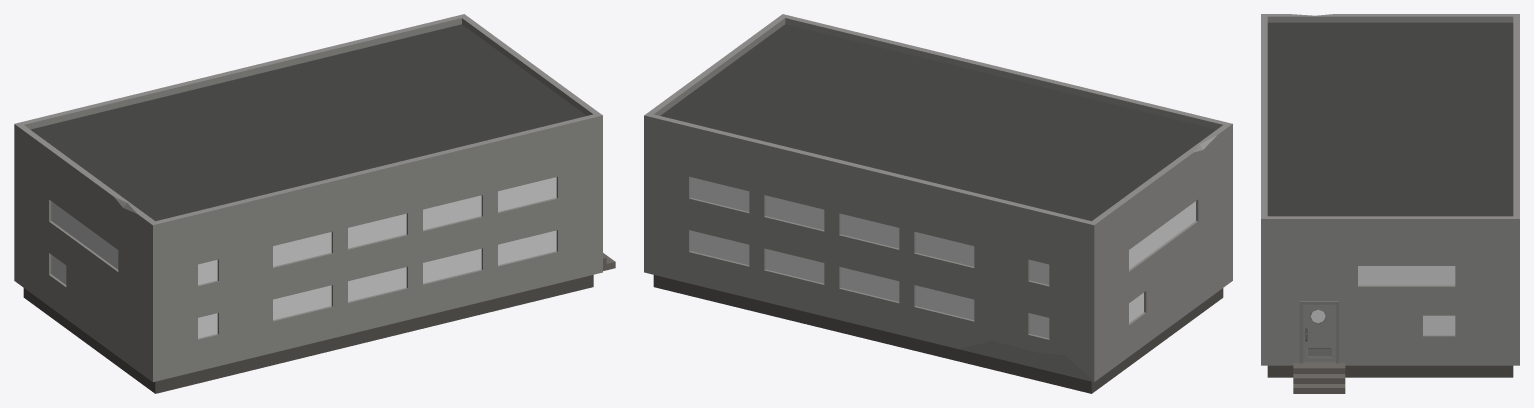
File: SM_Bldg_City_Industrial_08.fbx
3 views of the same model, side by side, from view 1: azimuth 30°, elevation 25°; view 2: azimuth 150°, elevation 25°; view 3: azimuth 270°, elevation 25° (orthographic). The views are drawn at different scales.
Parts seen in each view (by area): view 1: SM_Bldg_City_Industrial_08; view 2: SM_Bldg_City_Industrial_08; view 3: SM_Bldg_City_Industrial_08, SM_Bldg_City_Industrial_08_Door.
Part boxes in pixels (x1,y1,x2,y2): SM_Bldg_City_Industrial_08: (14, 14, 615, 393); SM_Bldg_City_Industrial_08: (644, 14, 1232, 393); SM_Bldg_City_Industrial_08: (1261, 14, 1519, 393); SM_Bldg_City_Industrial_08_Door: (1303, 304, 1335, 361).
Size of the model in its own units: 1600 by 550 by 800.
